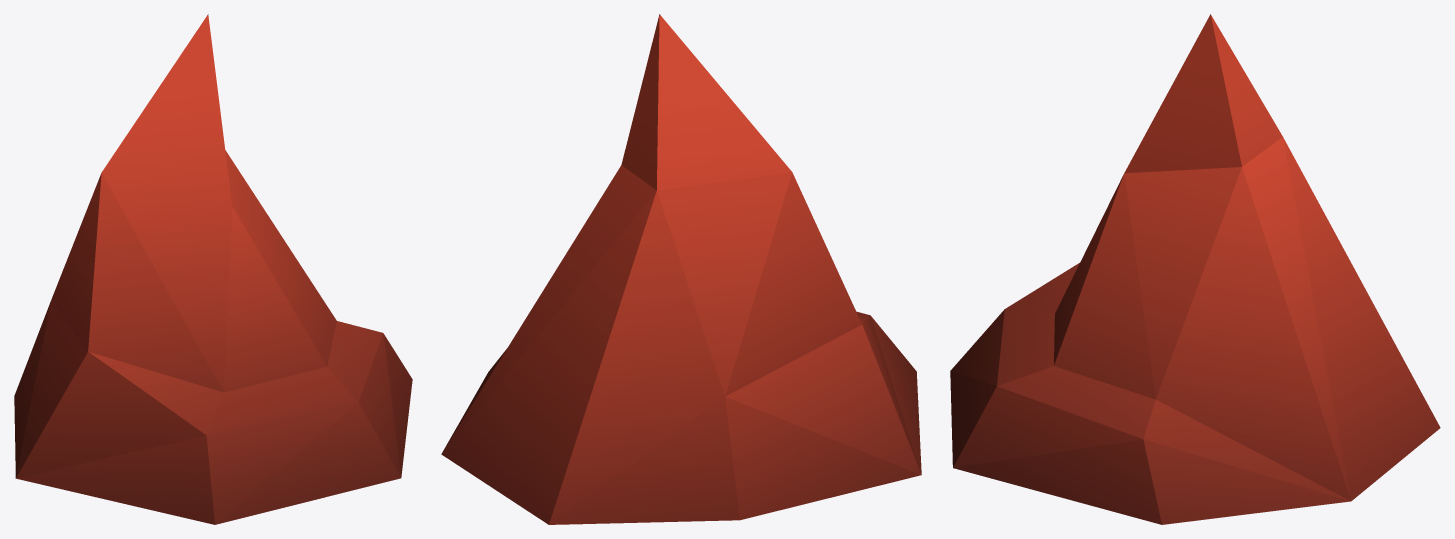
File: Spiky_Rock_5.fbx
3 views of the same model, side by side, from view 1: azimuth 30°, elevation 25°; view 2: azimuth 150°, elevation 25°; view 3: azimuth 270°, elevation 25° (orthographic). The views are drawn at different scales.
Parts seen in each view (by area): view 1: Spiky_Rock_5; view 2: Spiky_Rock_5; view 3: Spiky_Rock_5.
Boxes of the visible parts, bbox=[...] form: Spiky_Rock_5: bbox=[14, 14, 412, 524]; Spiky_Rock_5: bbox=[441, 14, 921, 524]; Spiky_Rock_5: bbox=[950, 14, 1440, 524].
Bounding box in the file's own units: 418 × 393 × 419.
Materials: 1 (1 with a texture image).
